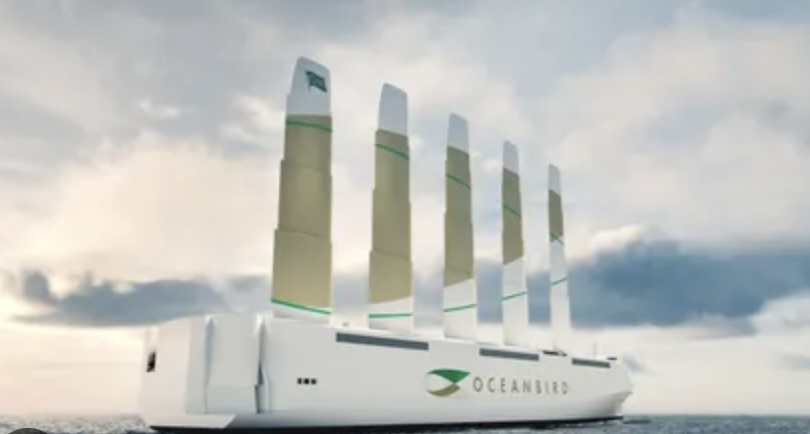ship: (139, 46, 648, 423)
